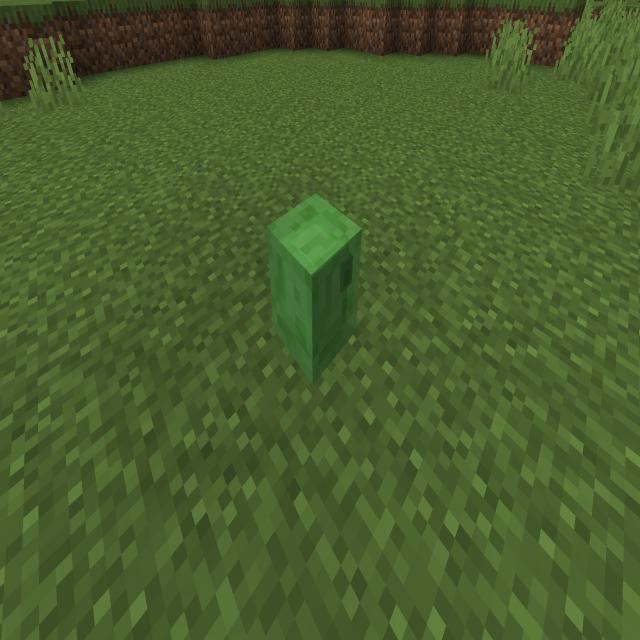Slime: (260, 177, 371, 405)
